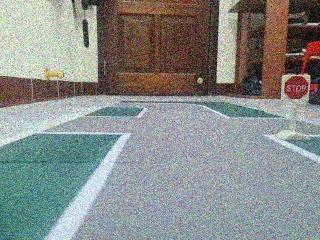stop: (281, 72, 312, 103)
